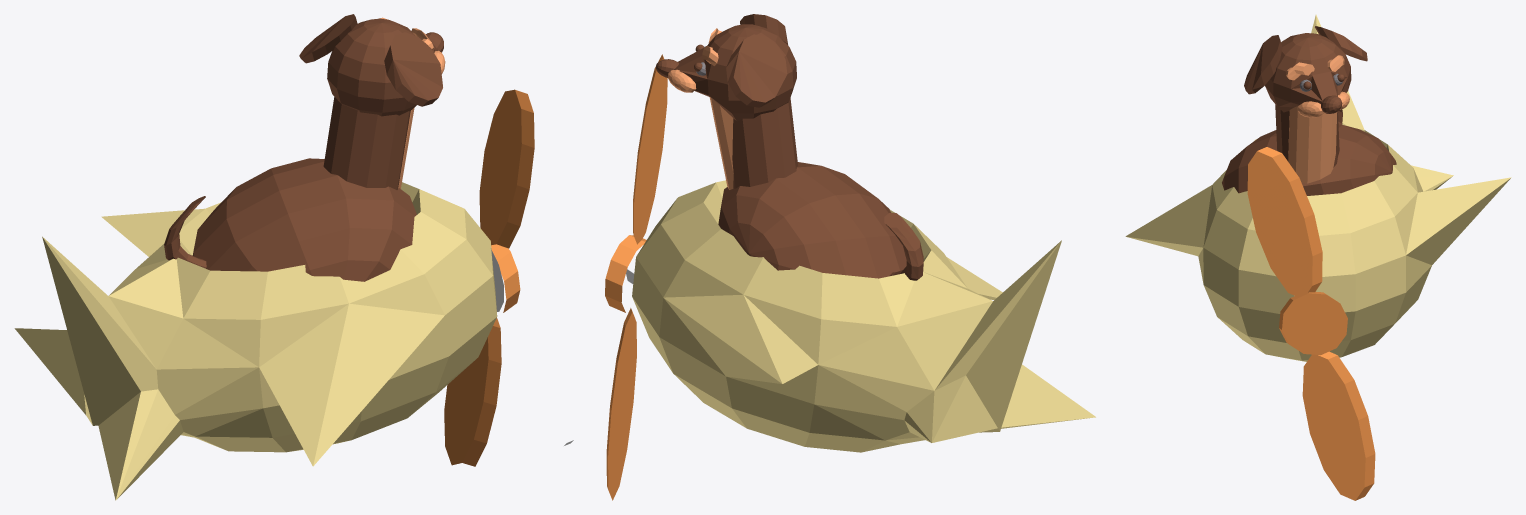
File: dogfly.glb
The picture shows the model from 3 angles, left to right: view 1: azimuth 30°, elevation 25°; view 2: azimuth 150°, elevation 25°; view 3: azimuth 270°, elevation 25°; orthographic projection. The views are drawn at different scales.
Visible parts, largest first — view 1: circle000, circle001; view 2: circle000, circle001; view 3: circle000, circle001.
Boxes of the visible parts, x1,y1,x2,y2 form: circle000: (14,14,503,500); circle001: (444,89,534,466); circle000: (564,14,1095,452); circle001: (605,54,667,500); circle000: (1125,14,1511,361); circle001: (1247,147,1375,500).
Bounding box in the file's own units: 1.07 × 1.11 × 0.9216.
